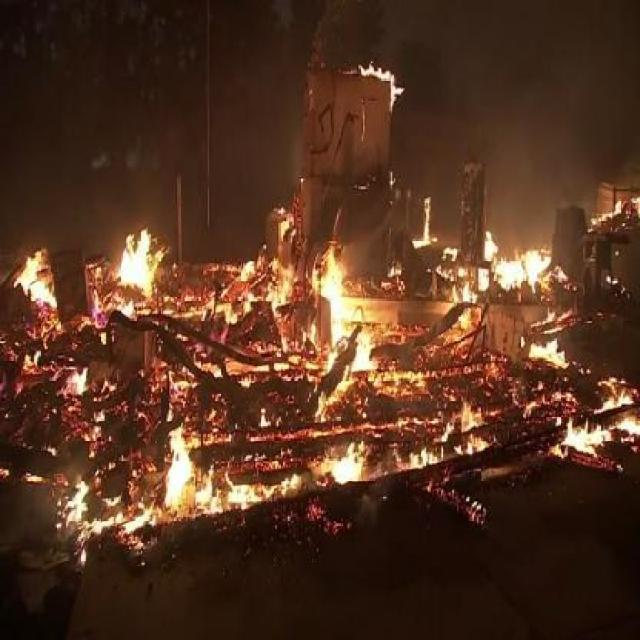Fire: (26, 203, 639, 514)
